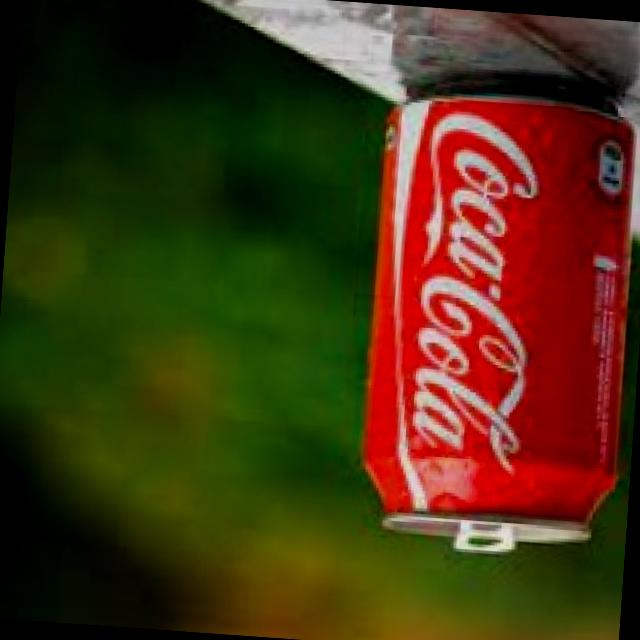kim_loai: (362, 77, 639, 554)
